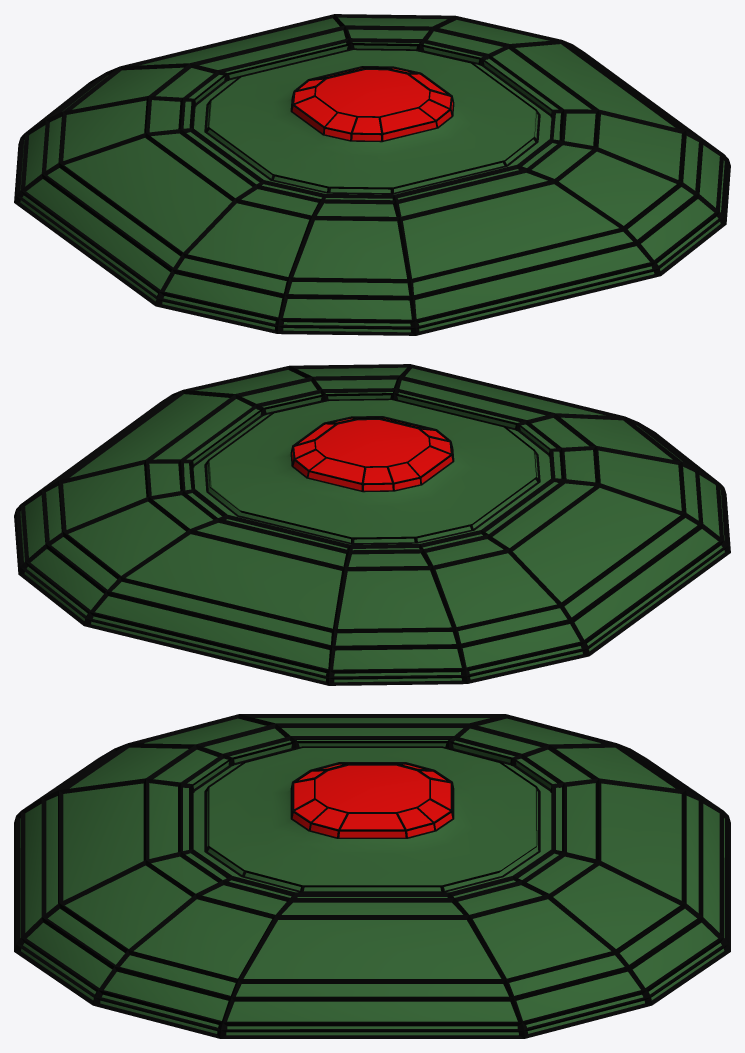
File: Landmine.fbx
3 views of the same model, one above another, from view 1: azimuth 30°, elevation 25°; view 2: azimuth 150°, elevation 25°; view 3: azimuth 270°, elevation 25° (orthographic). The views are drawn at different scales.
Parts seen in each view (by area): view 1: Plane.001; view 2: Plane.001; view 3: Plane.001.
Boxes of the visible parts, x1,y1,x2,y2 form: Plane.001: [14, 14, 730, 335]; Plane.001: [14, 364, 730, 685]; Plane.001: [14, 714, 730, 1038].
Size of the model in its own units: 66.97 by 10.29 by 66.97.
